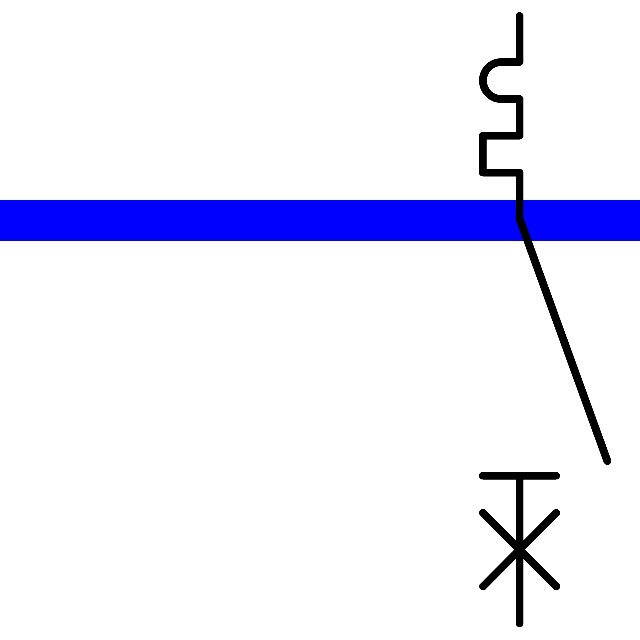interruptor_termomagnetico: (467, 0, 623, 639)
